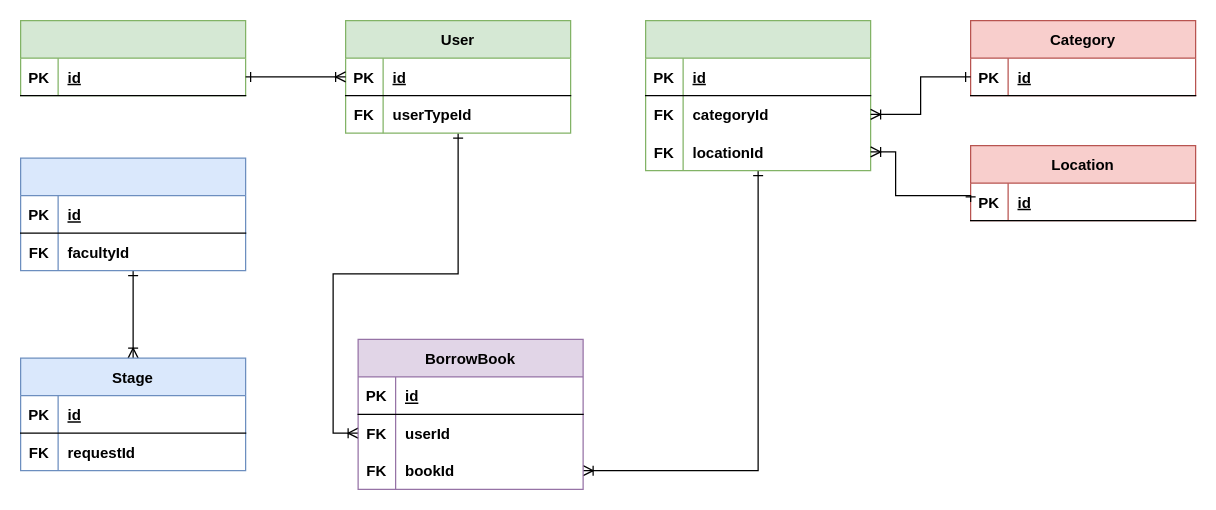
The diagram is 1216 pixels wide and 510 high, and some of its shapes have lost their labels. Each missing label, with the box of its shape:
Book: (644, 19, 871, 171)
Request: (19, 157, 246, 271)
UserType: (19, 19, 246, 96)
